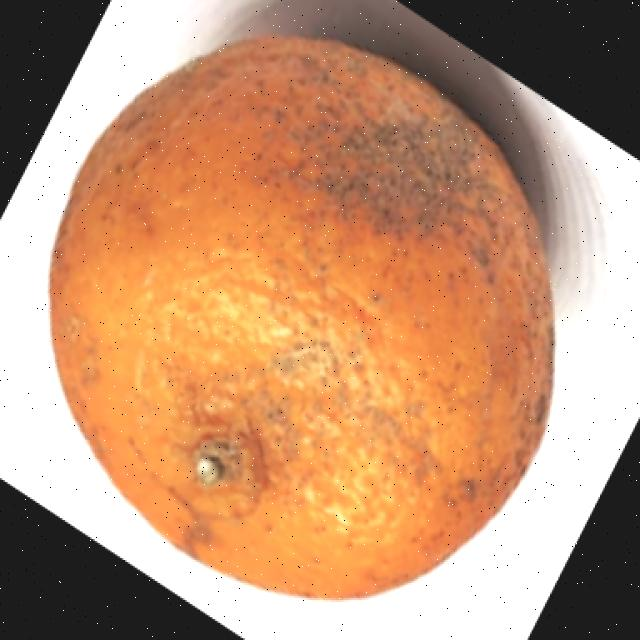overripe: (43, 27, 565, 602)
